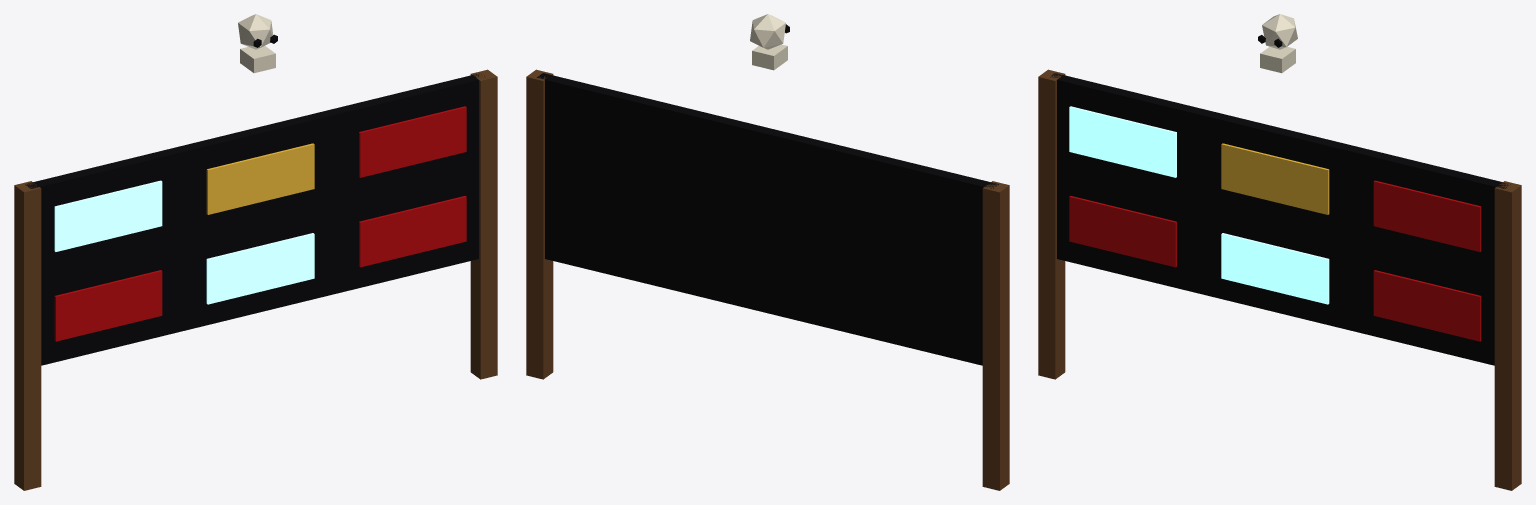
Rendered from Prop_OR_OddsBoard_06.glb.
3 views of the same model, side by side, from view 1: azimuth 30°, elevation 25°; view 2: azimuth 150°, elevation 25°; view 3: azimuth 330°, elevation 25° (orthographic).
Parts seen in each view (by area): view 1: Prop_OR_OddsBoard_06; view 2: Prop_OR_OddsBoard_06; view 3: Prop_OR_OddsBoard_06.
Boxes of the visible parts, x1,y1,x2,y2 form: Prop_OR_OddsBoard_06: [14, 14, 497, 490]; Prop_OR_OddsBoard_06: [526, 14, 1009, 490]; Prop_OR_OddsBoard_06: [1038, 14, 1521, 490].
Bounding box in the file's own units: 4.15 × 3.48 × 0.3057.
